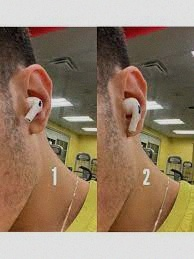earphone: (116, 65, 149, 138), (21, 64, 53, 136)
